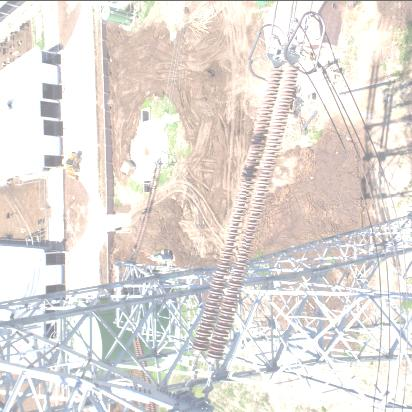insulator: (192, 59, 302, 372)
